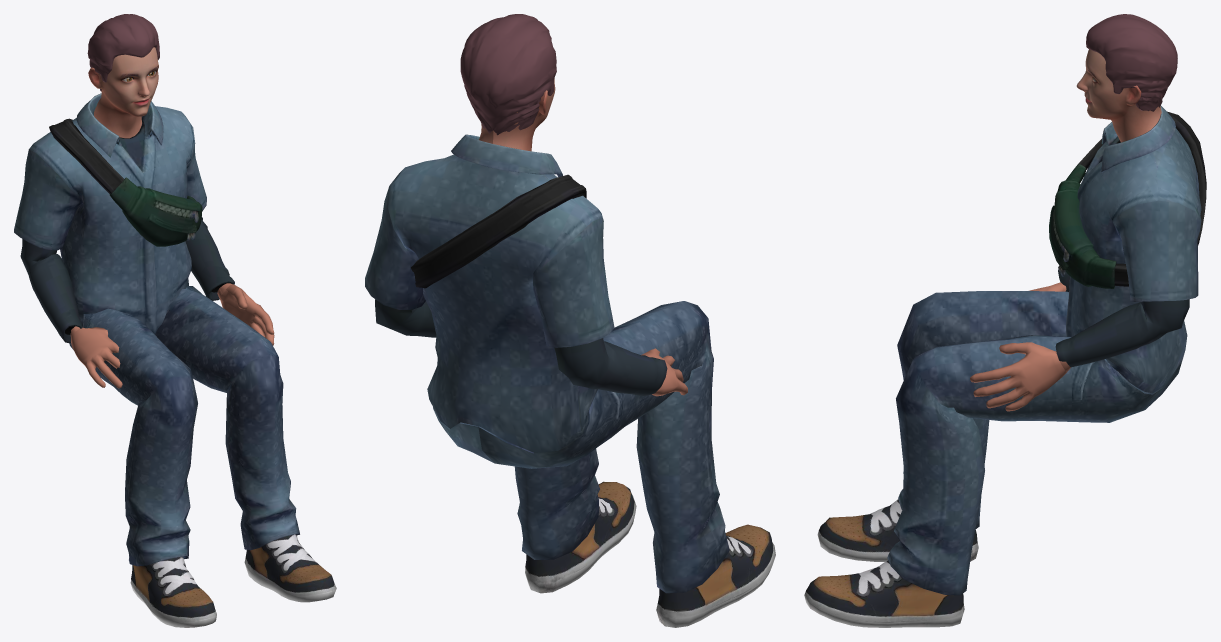
The model's file is MAN3.fbx.
3 views of the same model, side by side, from view 1: azimuth 30°, elevation 25°; view 2: azimuth 150°, elevation 25°; view 3: azimuth 270°, elevation 25° (orthographic). The views are drawn at different scales.
Visible parts, largest first — view 1: Wolf3D_Outfit_Top, Wolf3D_Outfit_Bottom, Wolf3D_Outfit_Footwear, Wolf3D_Head, Wolf3D_Body, Wolf3D_Hair; view 2: Wolf3D_Outfit_Top, Wolf3D_Outfit_Bottom, Wolf3D_Outfit_Footwear, Wolf3D_Hair, Wolf3D_Head, Wolf3D_Body; view 3: Wolf3D_Outfit_Bottom, Wolf3D_Outfit_Top, Wolf3D_Outfit_Footwear, Wolf3D_Hair, Wolf3D_Body, Wolf3D_Head.
Part boxes in pixels (bbox=[...]): Wolf3D_Outfit_Top: bbox=[14, 93, 234, 343]; Wolf3D_Outfit_Bottom: bbox=[69, 286, 299, 566]; Wolf3D_Outfit_Footwear: bbox=[130, 534, 336, 627]; Wolf3D_Head: bbox=[88, 47, 158, 138]; Wolf3D_Body: bbox=[70, 283, 274, 388]; Wolf3D_Hair: bbox=[87, 14, 159, 90]; Wolf3D_Outfit_Top: bbox=[365, 134, 667, 452]; Wolf3D_Outfit_Bottom: bbox=[433, 301, 729, 593]; Wolf3D_Outfit_Footwear: bbox=[525, 481, 775, 627]; Wolf3D_Hair: bbox=[460, 14, 556, 135]; Wolf3D_Head: bbox=[479, 78, 555, 151]; Wolf3D_Body: bbox=[641, 348, 687, 396]; Wolf3D_Outfit_Bottom: bbox=[887, 291, 1181, 595]; Wolf3D_Outfit_Top: bbox=[1049, 105, 1206, 393]; Wolf3D_Outfit_Footwear: bbox=[804, 499, 978, 627]; Wolf3D_Hair: bbox=[1086, 14, 1177, 111]; Wolf3D_Body: bbox=[970, 282, 1070, 411]; Wolf3D_Head: bbox=[1076, 49, 1161, 142].
Size of the model in its own units: 534 by 1408 by 896.
8 materials, 8 textured.
